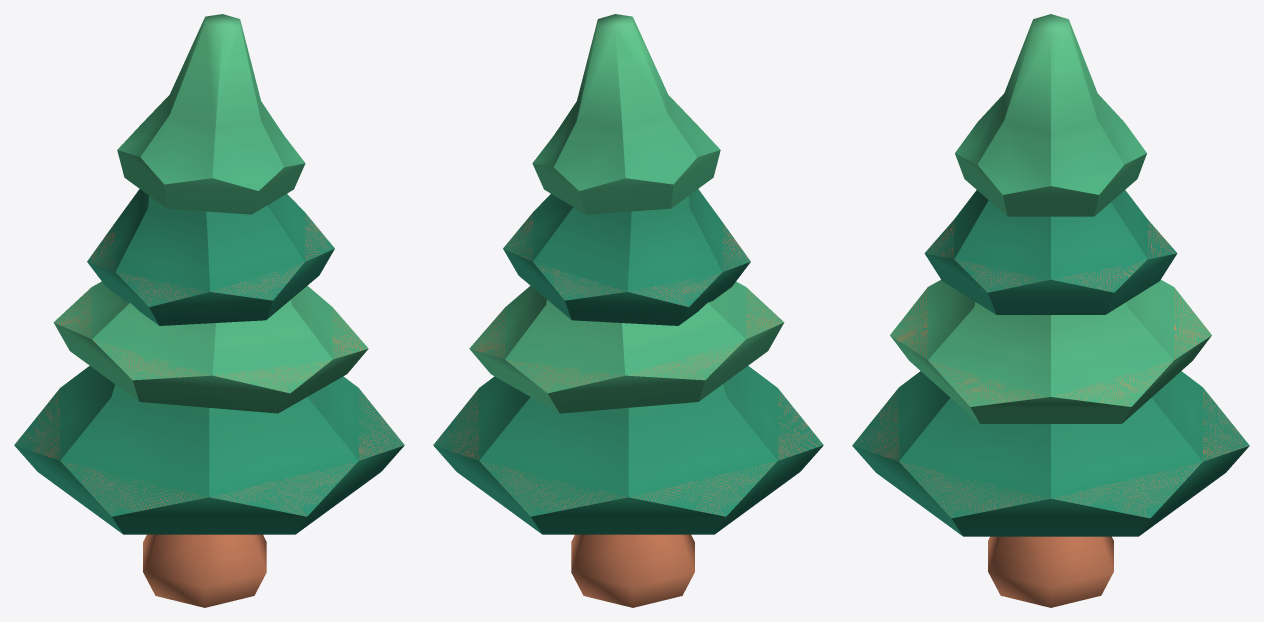
File: grave.pine_crooked.glb
3 renders of one model, left to right at view 1: azimuth 30°, elevation 25°; view 2: azimuth 150°, elevation 25°; view 3: azimuth 270°, elevation 25°, orthographic.
Visible parts, largest first — view 1: pine-crooked; view 2: pine-crooked; view 3: pine-crooked.
Boxes of the visible parts, <box> form: pine-crooked: <box>14,14,404,607</box>; pine-crooked: <box>433,14,823,607</box>; pine-crooked: <box>852,14,1249,607</box>.
Size of the model in its own units: 2.81 by 5.03 by 3.18.
1 material, 1 textured.
